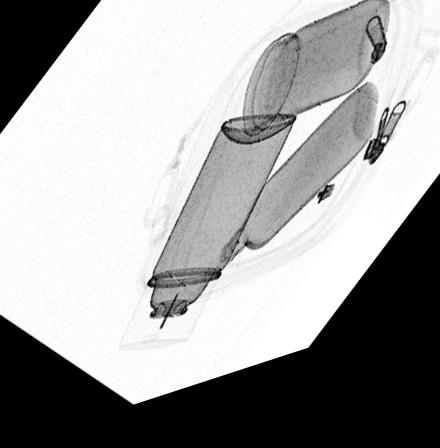Sprayer: (119, 131, 298, 359)
